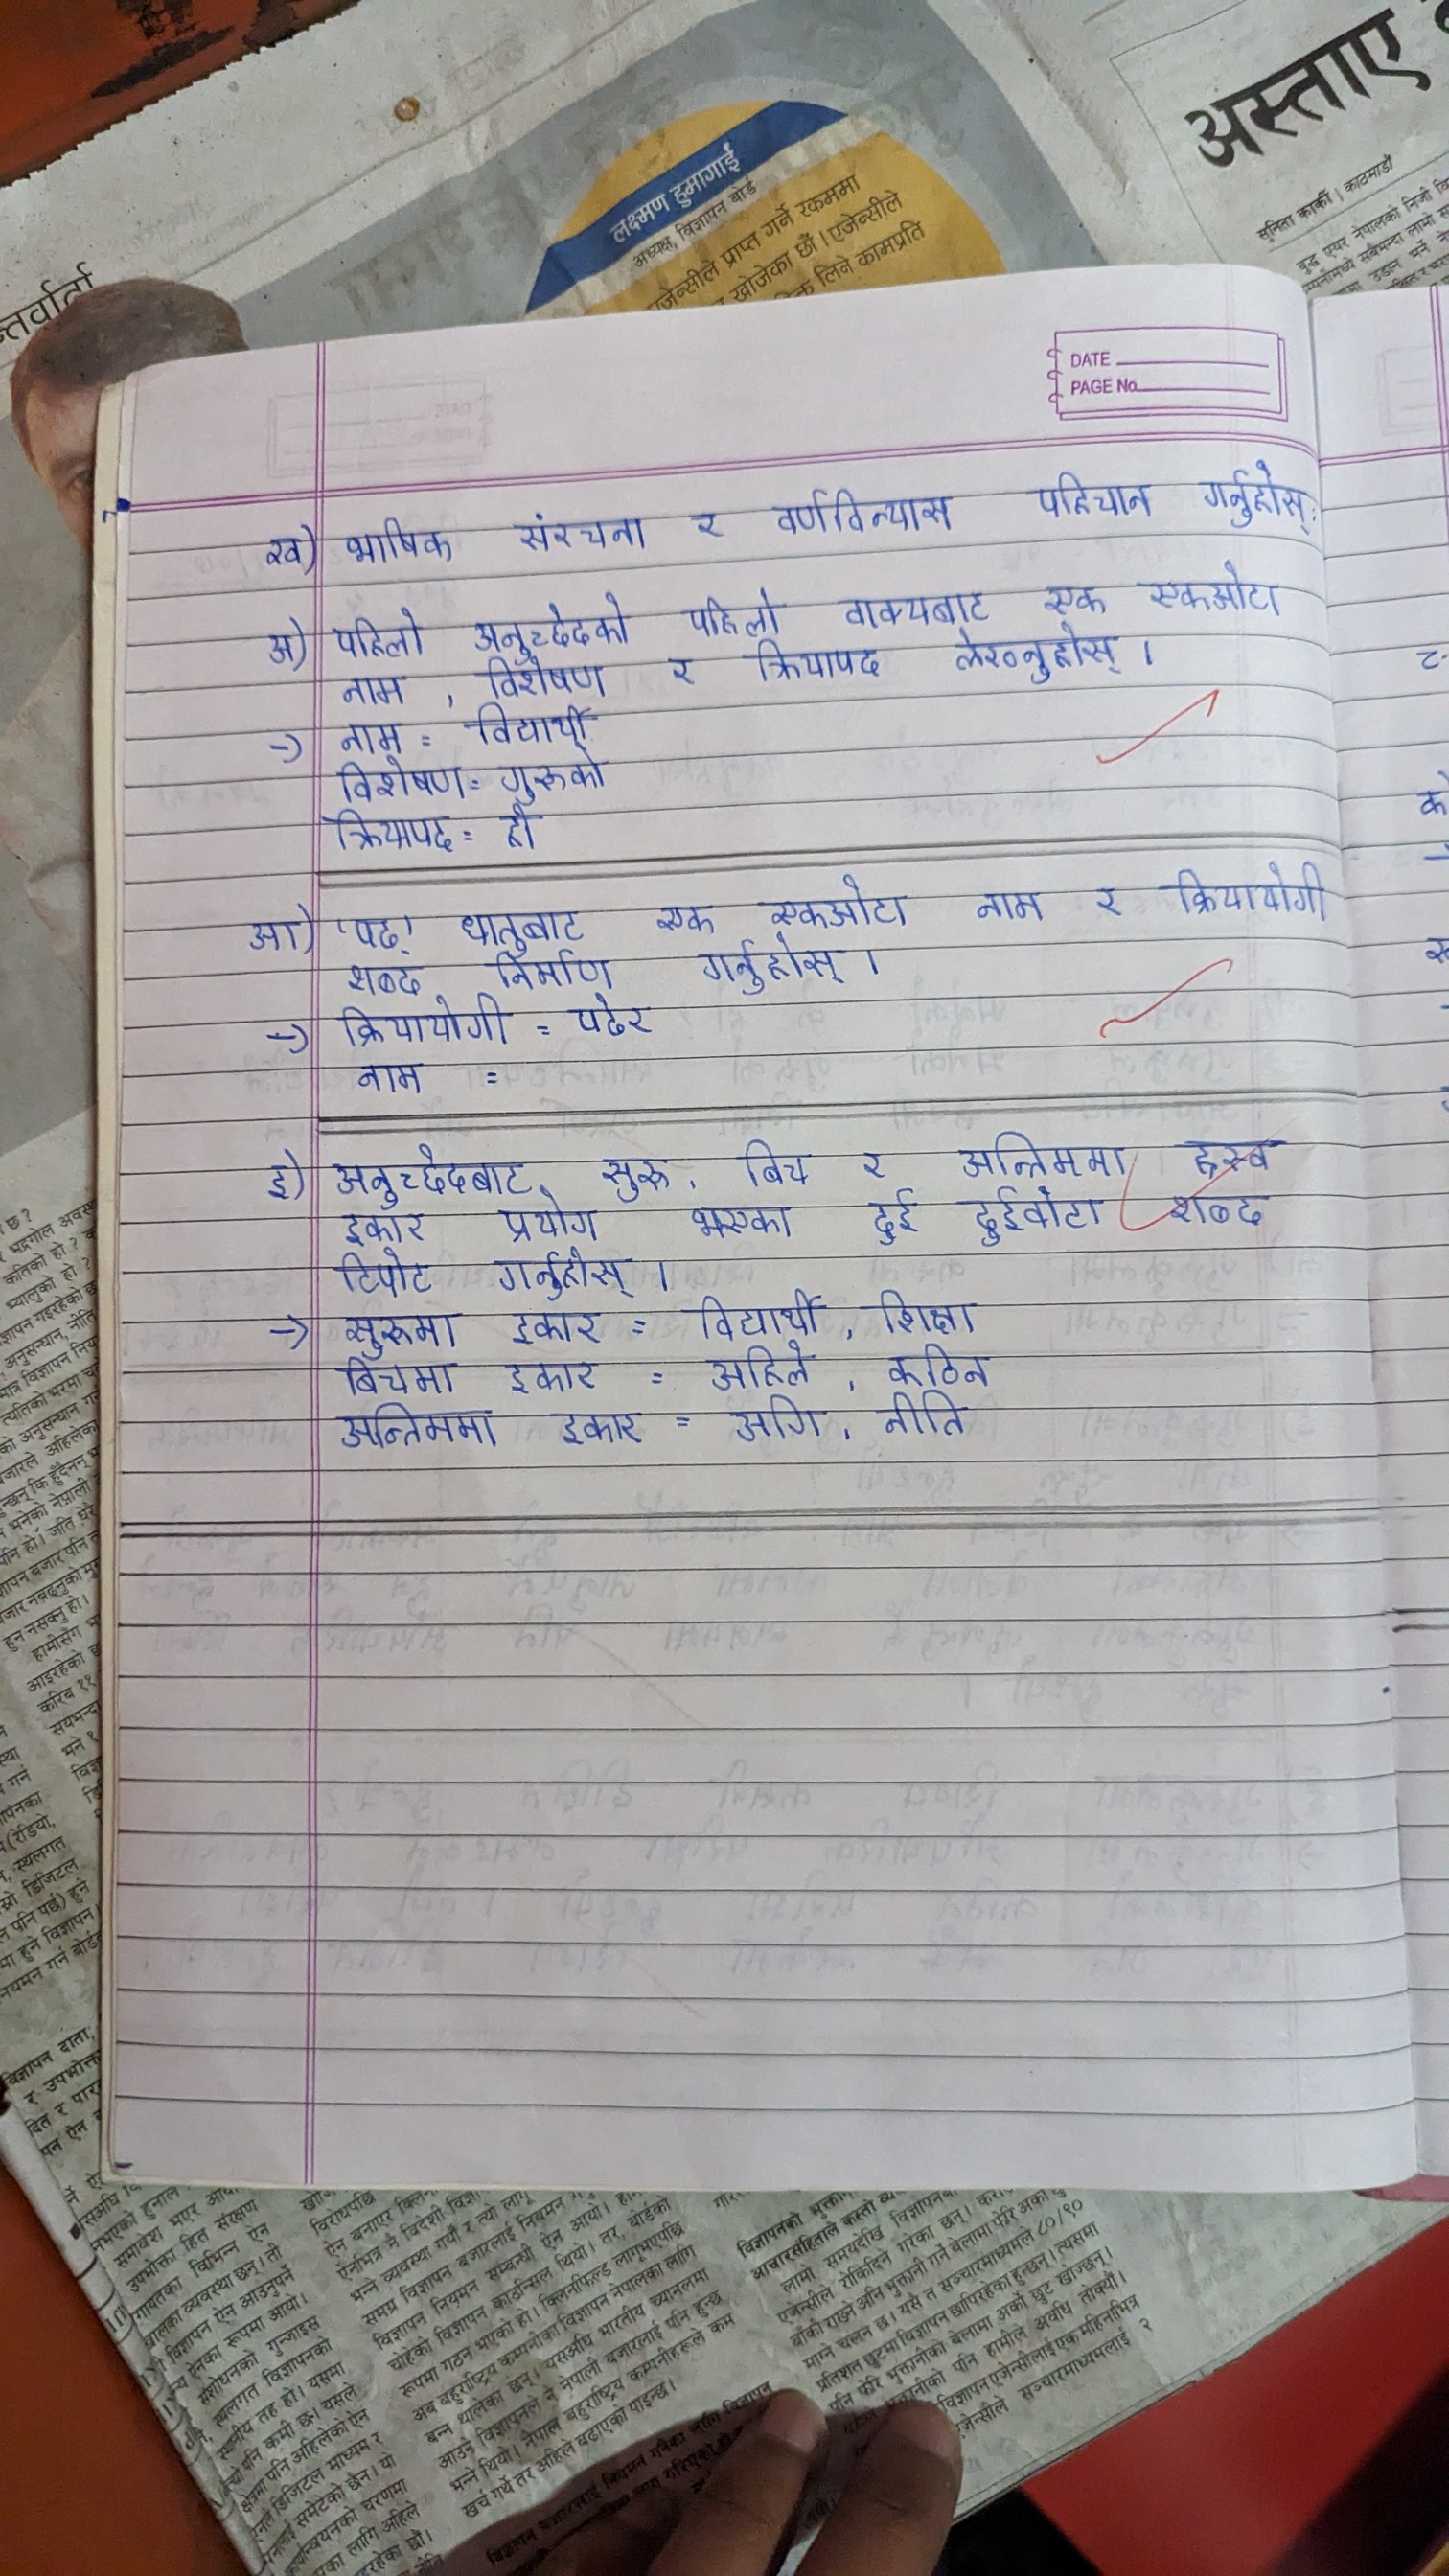text: (1164, 858, 1332, 929), (1191, 448, 1316, 538), (465, 587, 632, 655), (757, 478, 961, 533), (327, 1146, 533, 1200), (318, 1399, 504, 1458), (955, 1187, 1115, 1251), (326, 1000, 518, 1049), (757, 872, 922, 929), (697, 938, 862, 994), (948, 628, 1123, 681), (1016, 462, 1152, 525), (492, 504, 662, 554), (950, 1132, 1131, 1178), (1145, 559, 1281, 619), (492, 1247, 633, 1302), (686, 1292, 830, 1339), (453, 902, 596, 948), (745, 640, 890, 685), (340, 1307, 467, 1355), (471, 656, 612, 699), (878, 1339, 1003, 1387), (701, 1339, 812, 1392), (340, 517, 458, 566), (464, 704, 605, 745), (324, 607, 432, 660), (326, 810, 458, 853), (674, 587, 796, 633), (495, 747, 612, 794), (1161, 1191, 1290, 1233), (870, 1290, 993, 1334), (570, 993, 674, 1044), (331, 761, 467, 800), (1171, 1131, 1290, 1175), (725, 1398, 835, 1445), (879, 1389, 973, 1444), (840, 589, 993, 623), (336, 1251, 439, 1299), (488, 952, 619, 987), (333, 1359, 465, 1392), (347, 1054, 435, 1104), (499, 1355, 605, 1396), (688, 1205, 807, 1240), (488, 1205, 605, 1240), (734, 1132, 807, 1189), (966, 879, 1054, 925), (508, 1307, 607, 1346), (556, 1407, 649, 1447), (598, 1152, 674, 1201), (862, 1191, 929, 1246), (341, 911, 419, 954), (336, 1210, 433, 1244), (333, 671, 412, 709), (251, 533, 318, 577), (1037, 577, 1109, 617), (338, 961, 423, 994), (849, 1136, 906, 1185), (237, 909, 303, 952), (331, 718, 409, 754), (648, 899, 722, 934), (649, 649, 706, 695), (497, 803, 547, 853), (267, 1145, 301, 1214), (679, 502, 734, 543), (253, 625, 299, 672), (1086, 869, 1125, 922)
